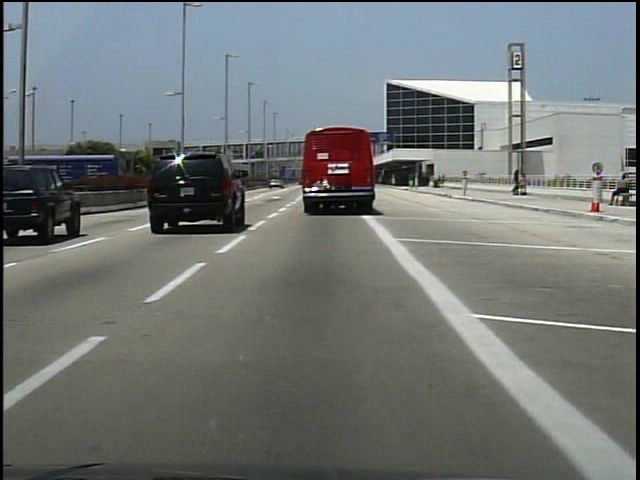person: (607, 173, 631, 210)
